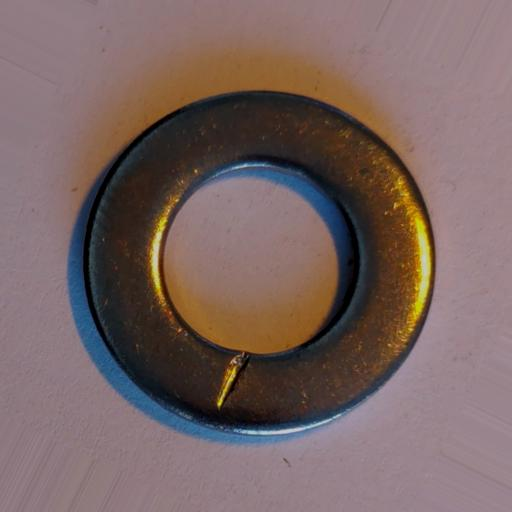scratch: (213, 351, 251, 412)
